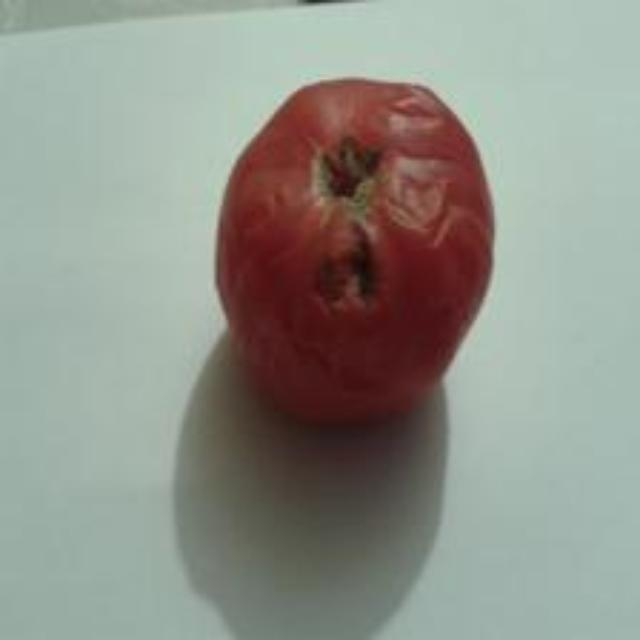defect: (212, 68, 495, 429)
